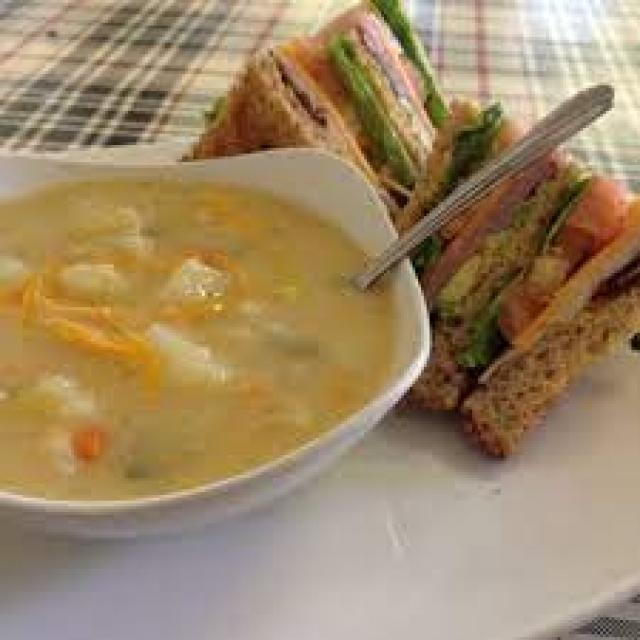Sandwich: (248, 0, 640, 448)
